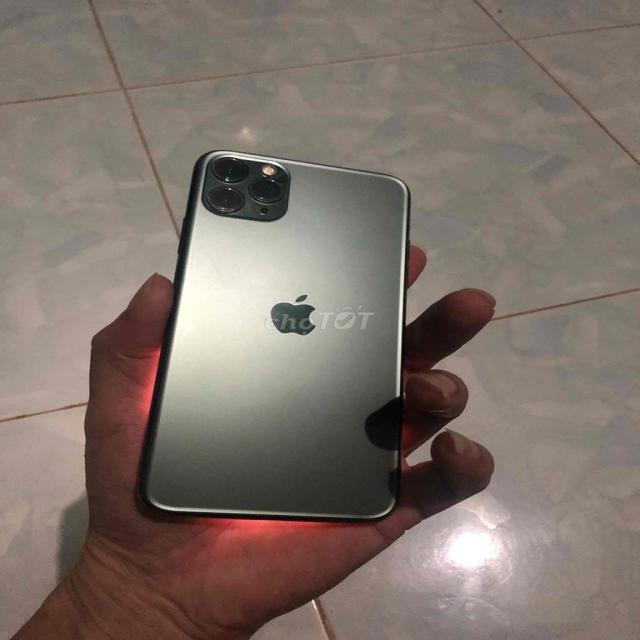gen_11: (139, 150, 409, 521)
